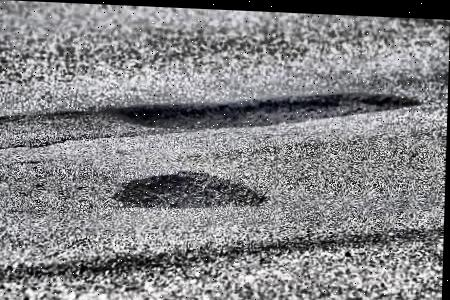pothole: (110, 79, 422, 138), (112, 166, 270, 215)
